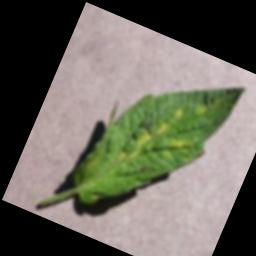Leaf_Mold: (131, 112, 171, 155), (158, 130, 198, 170), (112, 141, 142, 172)
